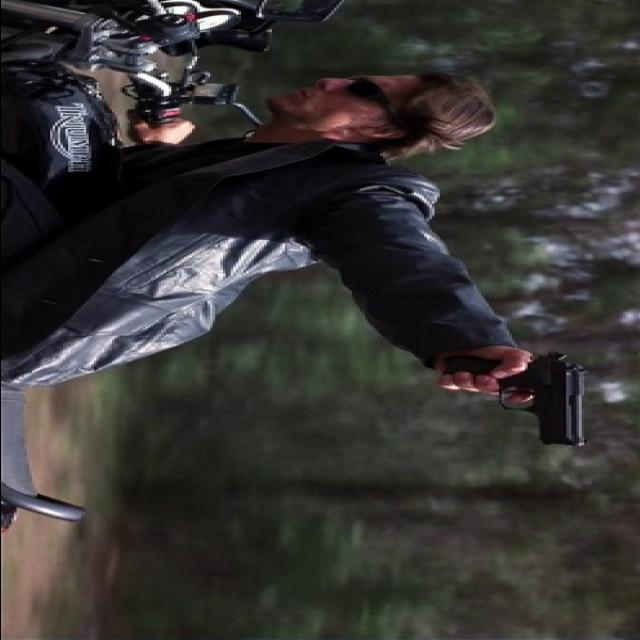weapons: (400, 342, 610, 461)
